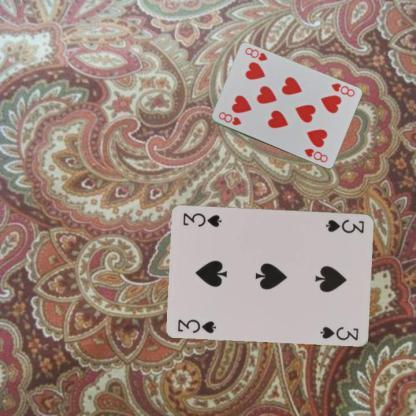3s: (324, 216, 366, 235), (175, 316, 217, 335)
8h: (328, 80, 356, 99), (216, 109, 243, 127)
